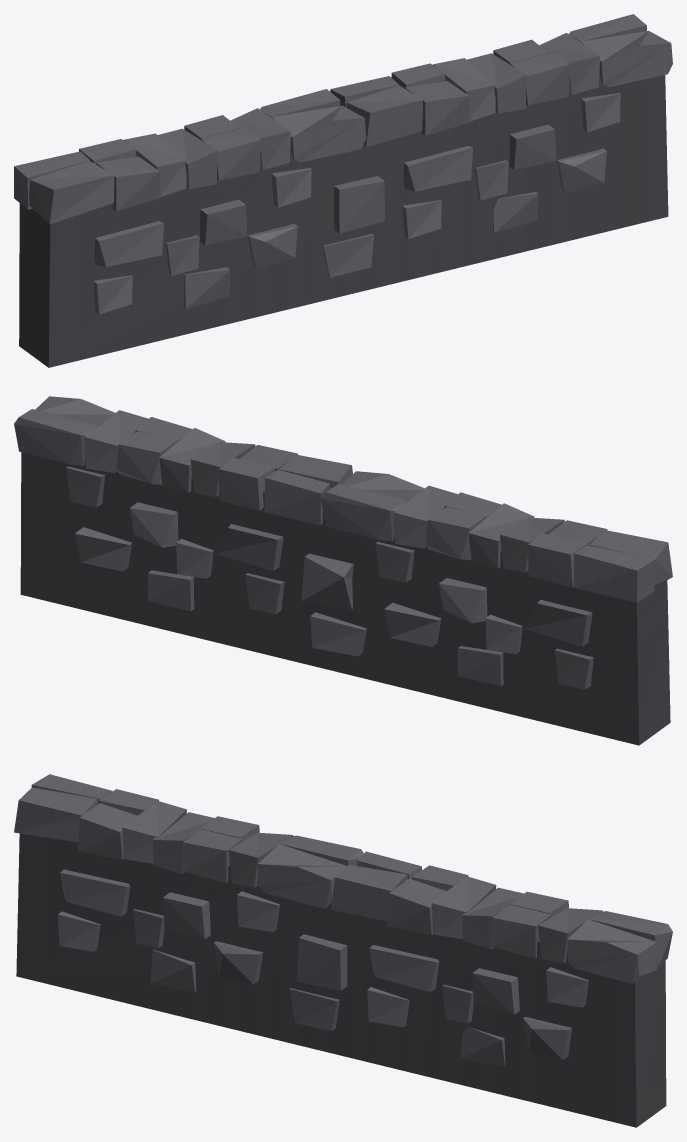
File: Wall_1B_LOD1.fbx
3 renders of one model, top to bottom at view 1: azimuth 30°, elevation 25°; view 2: azimuth 150°, elevation 25°; view 3: azimuth 330°, elevation 25°, orthographic.
Visible parts, largest first — view 1: polySurface10120; view 2: polySurface10120; view 3: polySurface10120.
Part boxes in pixels (left/top/right/bottom): polySurface10120: left=14, top=14, right=672, bottom=367; polySurface10120: left=14, top=396, right=672, bottom=745; polySurface10120: left=14, top=774, right=672, bottom=1127.
Size of the model in its own units: 811 by 222 by 102.
